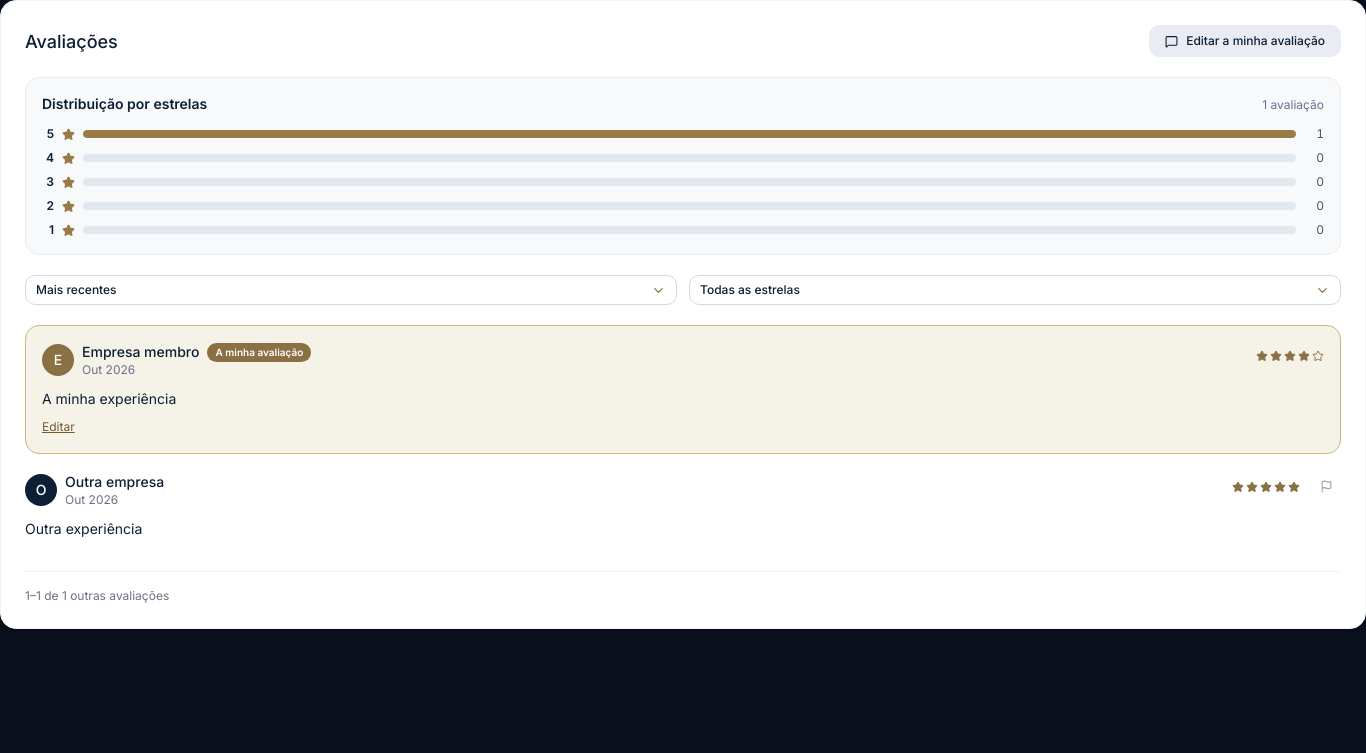
Scenario: Aviso de avaliação a aguardar moderação no perfil público › ao editar uma avaliação que fica sinalizada mostra o mesmo aviso
Click the button "Editar a minha avaliação" at (1245, 41), box [1149,25,1341,57]
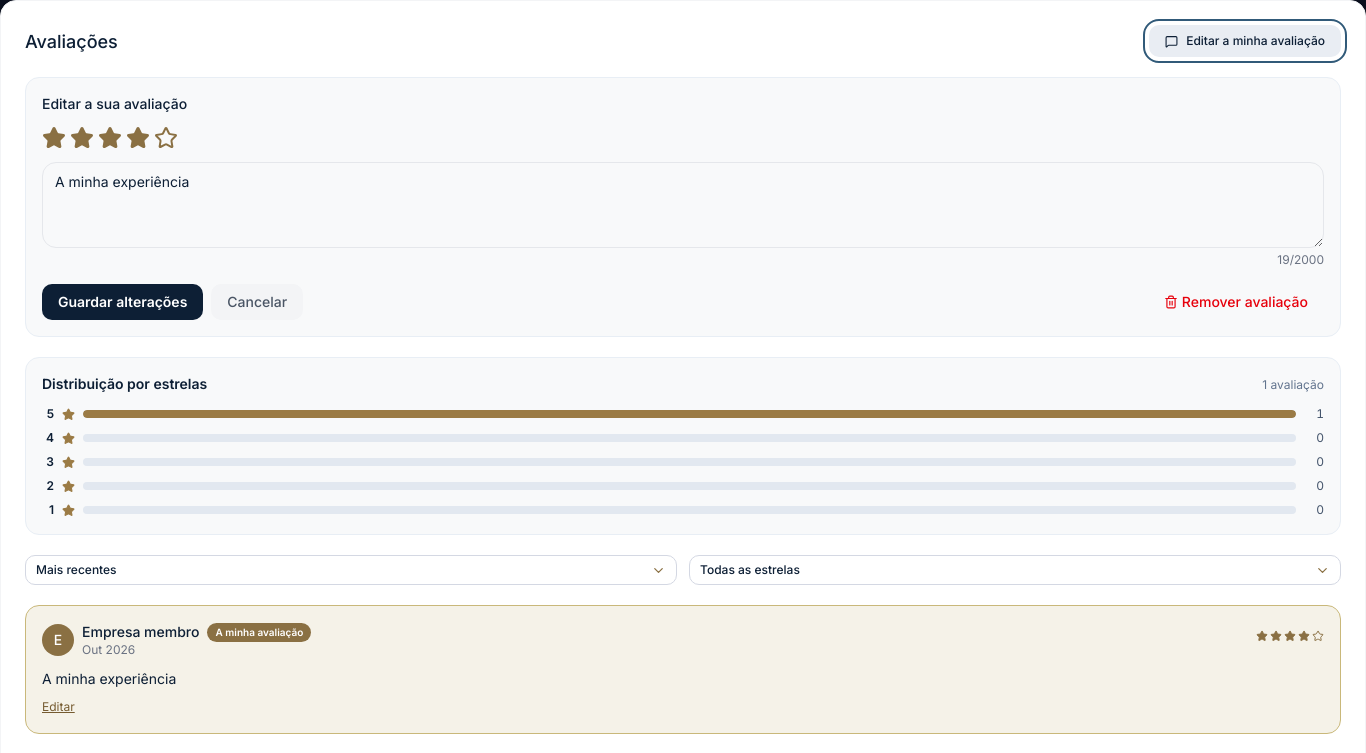
Replace the text in the text box with "Texto alterado" at (683, 205), box [42,162,1324,248]
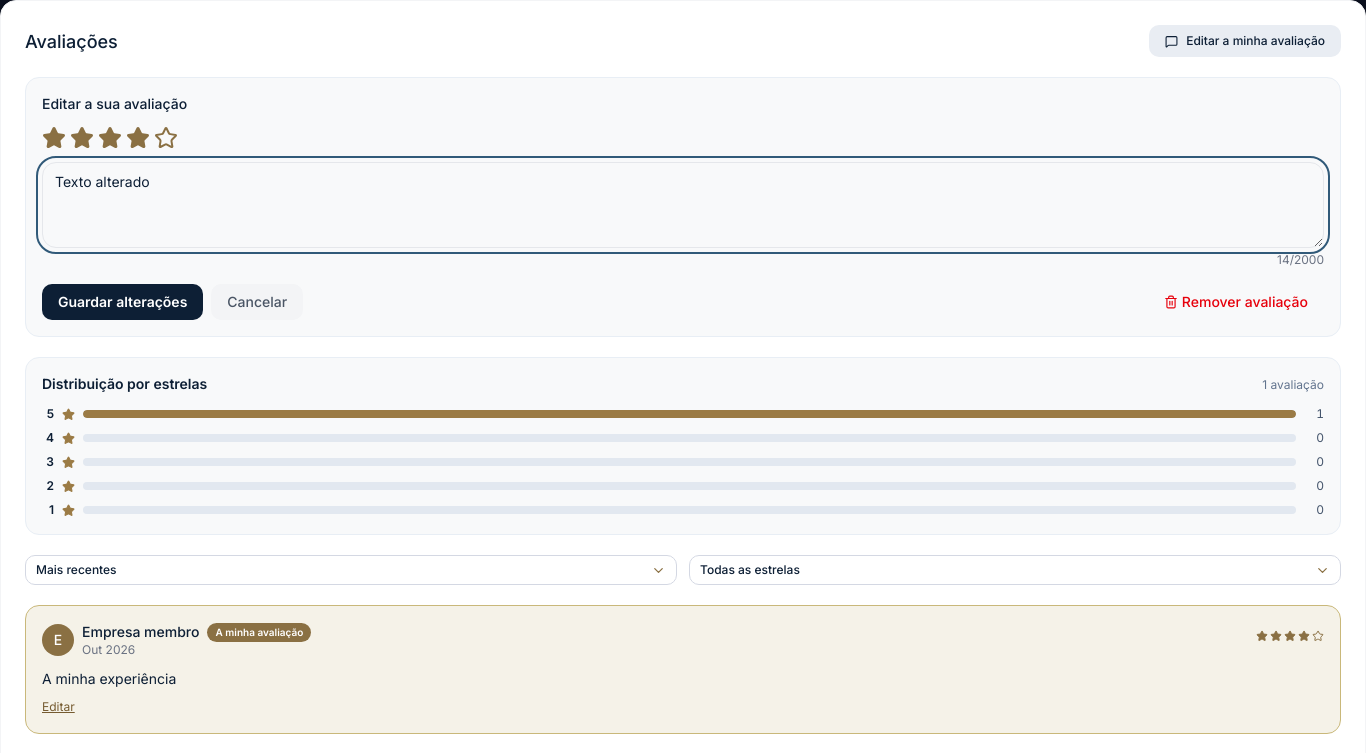
Click the button "Guardar alterações" at (123, 302), box [42,284,203,320]
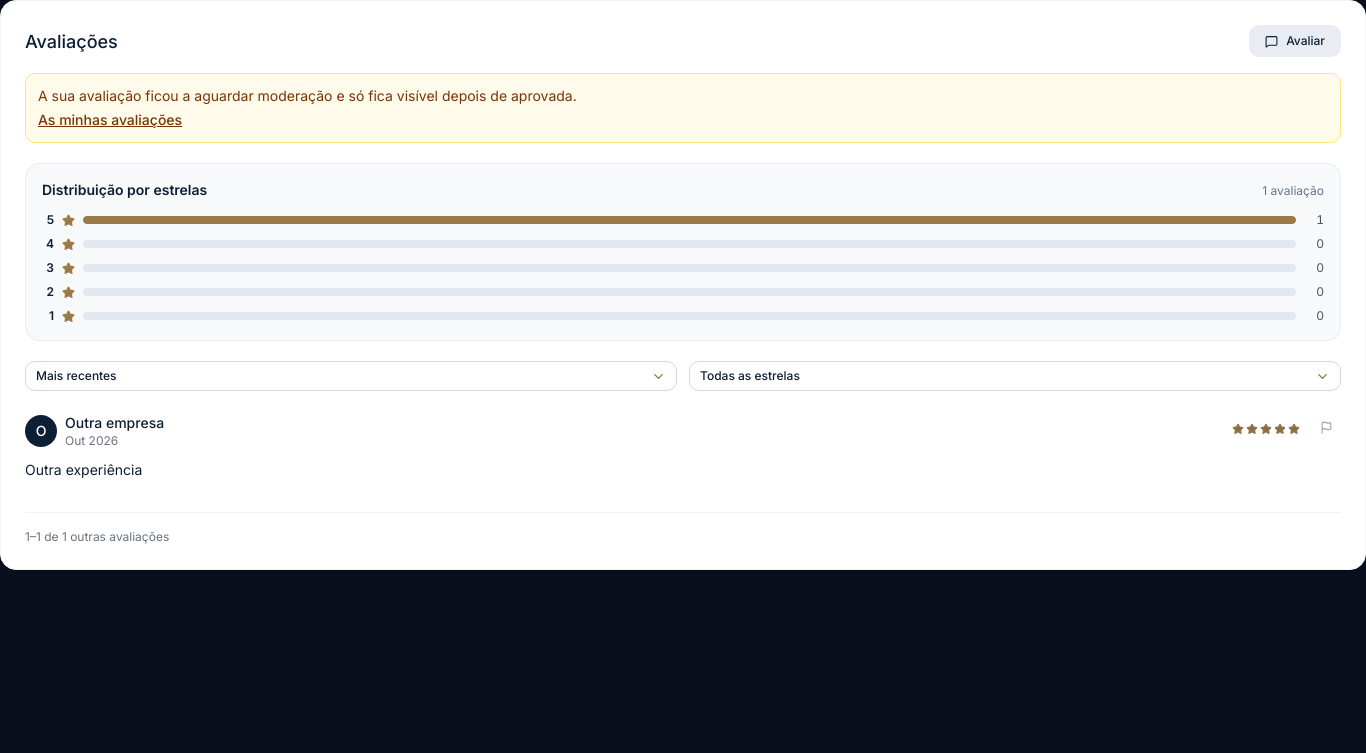
Result: the text "A sua avaliação ficou a aguardar moderação e só fica visível depois de aprovada." is shown at [38,87,577,104]
Result: the button "Avaliar" is shown at [1249,25,1341,57]
Result: the button "a minha avaliação" is gone
